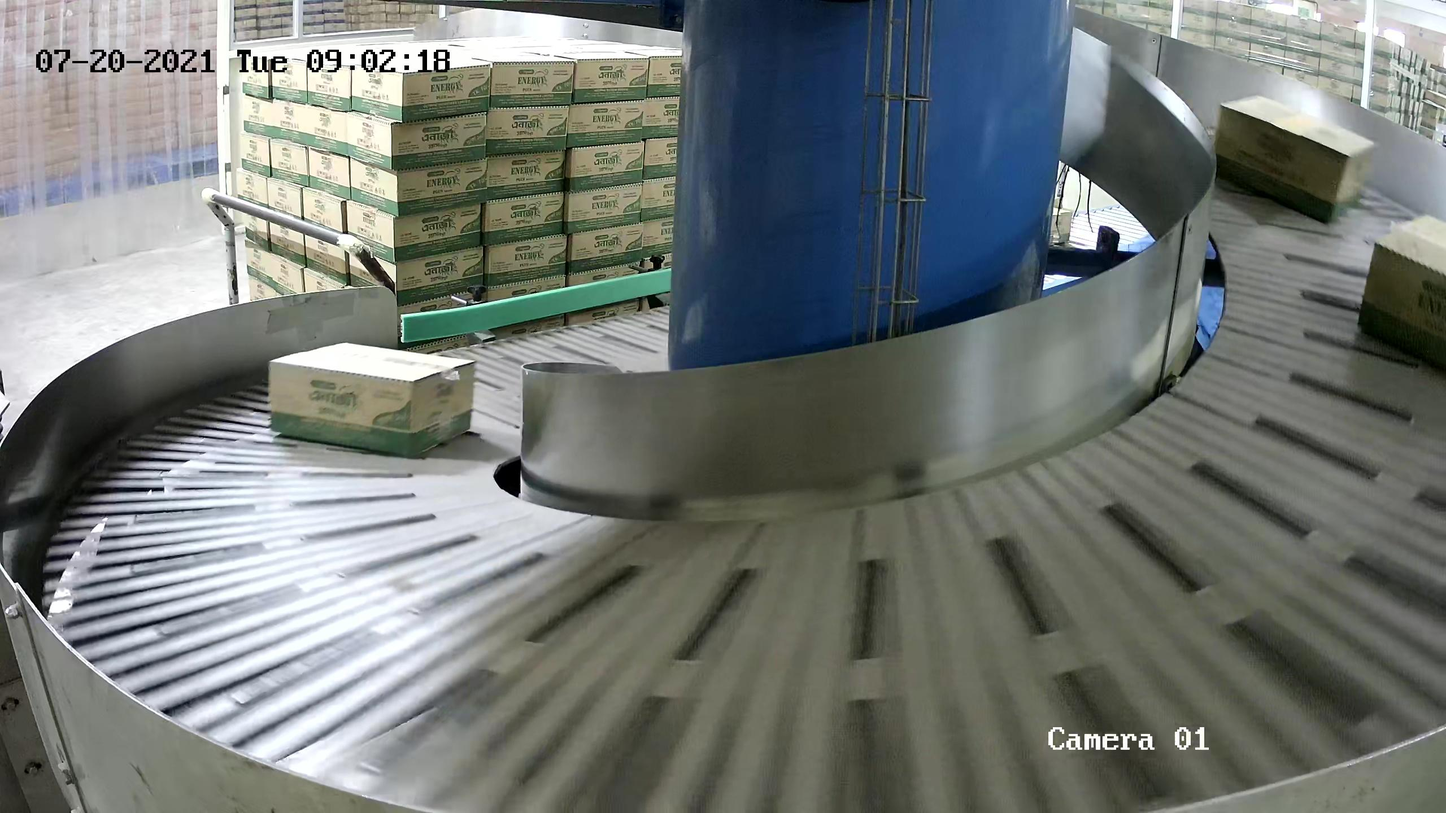Box: (267, 339, 477, 459), (1213, 92, 1377, 225), (1355, 212, 1446, 370)
